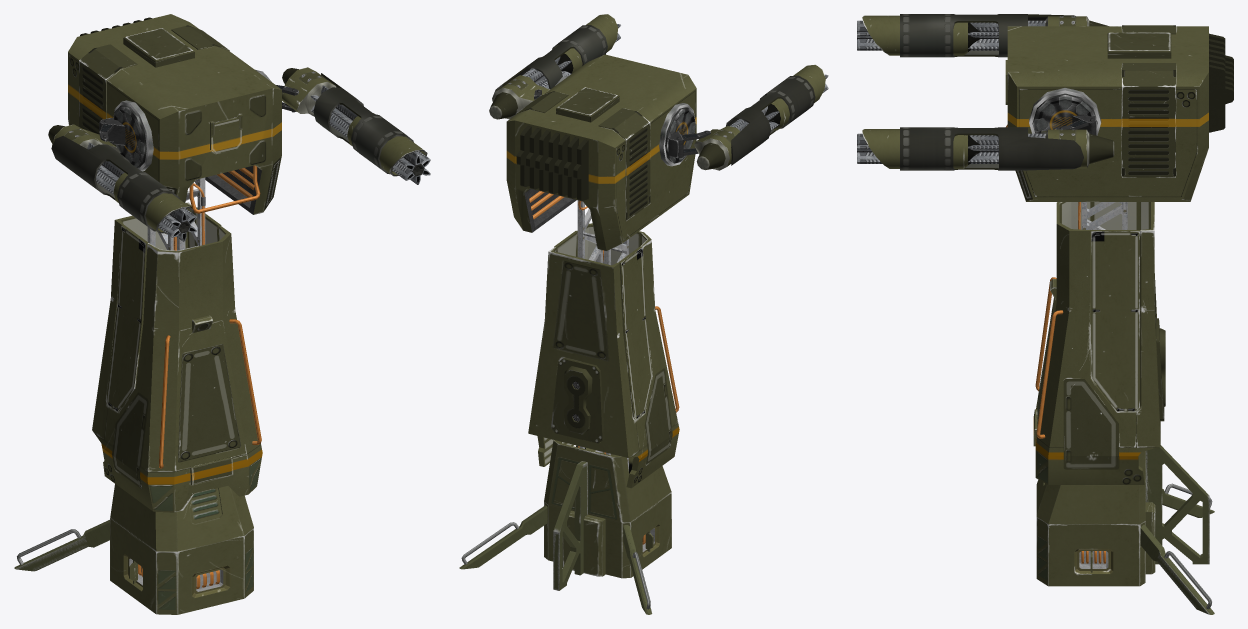
File: turret_tower_04.fbx
3 renders of one model, left to right at view 1: azimuth 30°, elevation 25°; view 2: azimuth 150°, elevation 25°; view 3: azimuth 270°, elevation 25°, orthographic. The views are drawn at different scales.
Parts seen in each view (by area): view 1: body (×3), head, tower_base, cover (×2), tower_body_door_right, barrels (×2), tower_head_door_right, decor3, tower_leg, decor (×2), holder, body_frame (+4 smaller); view 2: body (×3), head, tower_base, decor3, tower_leg, cover (×2), tower_body_door_right, tower_body_door_rear, tower_head_door_right, body_frame, holder, decor (+2 smaller); view 3: body (×3), head, tower_base, cover (×2), tower_body_door_left, tower_head_door_left, tower_leg, decor3, barrels (×2), holder, body_frame, tower_body_door_right (+2 smaller).
Part boxes in pixels (x1,y1,x2,y2): body (×3): (48,67,427,512); head: (68,14,281,234); tower_base: (110,484,253,614); cover (×2): (51,73,413,231); tower_body_door_right: (106,225,148,412); barrels (×2): (87,85,430,241); tower_head_door_right: (79,44,137,134); decor3: (80,17,194,67); tower_leg: (14,520,109,571); decor (×2): (99,118,260,213); holder: (113,105,146,168); body_frame: (147,177,205,250); body (×3): (489,14,825,488); head: (506,54,696,250); tower_base: (544,440,671,578); decor3: (516,87,619,200); tower_leg: (459,461,652,614); cover (×2): (492,25,815,165); tower_body_door_right: (619,246,652,419); tower_body_door_rear: (551,357,604,443); tower_head_door_right: (598,108,650,221); body_frame: (577,200,628,470); holder: (665,107,695,163); decor: (668,130,710,158); body (×3): (862,15,1160,484); head: (1007,26,1208,201); tower_base: (1036,451,1155,586); cover (×2): (900,14,1083,170); tower_body_door_left: (1091,230,1139,412); tower_head_door_left: (1122,63,1175,177); tower_leg: (1140,445,1214,614); decor3: (1107,32,1233,132); barrels (×2): (857,20,1046,163); holder: (1032,93,1097,133); body_frame: (1078,202,1127,229); tower_body_door_right: (1091,202,1139,229).
Bounding box in the file's own units: 8.66 × 15.97 × 10.47.
